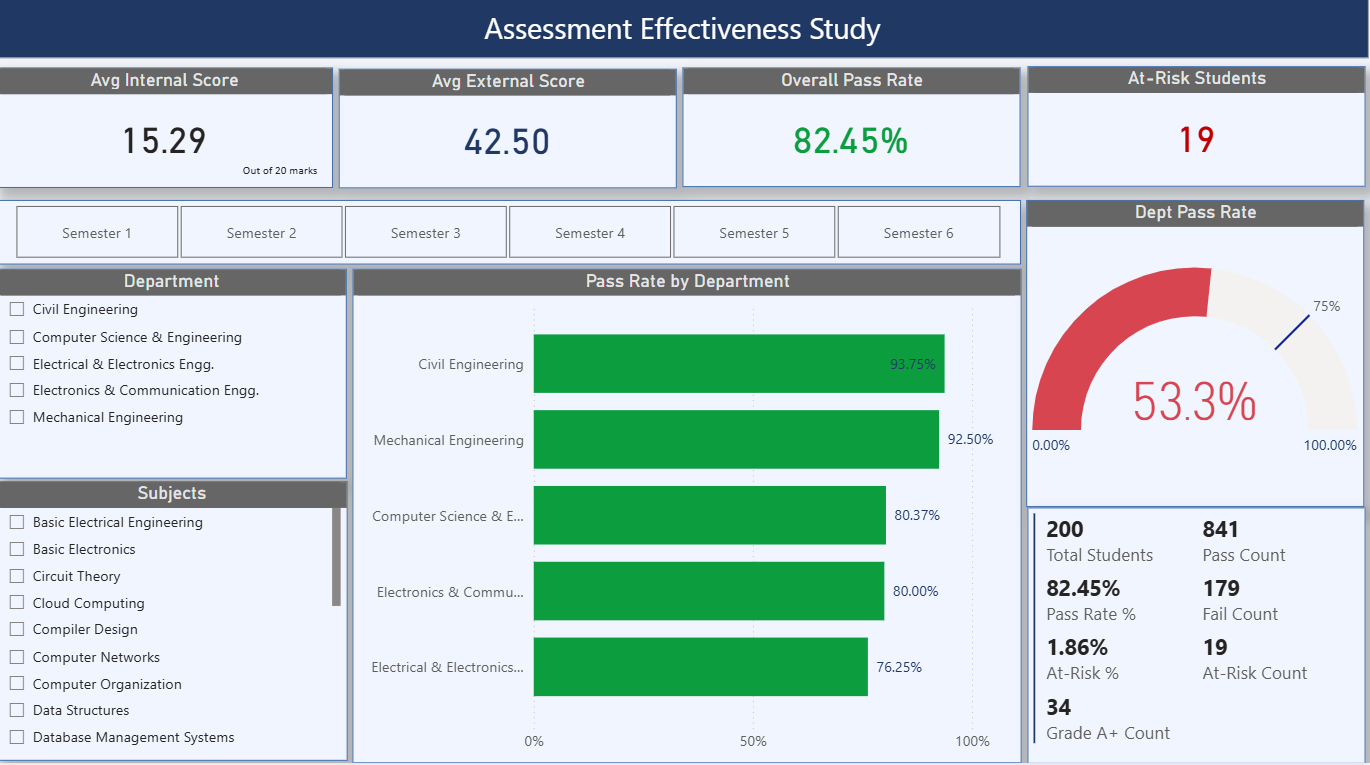

The dashboard page shown, as its layout file describes it:
{"tool":"powerbi","page":{"name":"Executive Summary","canvas":[1280,720],"ordinal":0},"visuals":[{"type":"textbox","box":[1.1,5.6,1276.7,57.8],"z":0},{"type":"card","title":"Avg Internal Score","fields":{"Values":["__Measures.Avg IA Score"]},"box":[0,71.9,314,112],"z":1000},{"type":"card","title":"Avg External Score","fields":{"Values":["__Measures.Avg EE Score"]},"box":[320,73.5,314,110.9],"z":2000},{"type":"card","title":"Overall Pass Rate","fields":{"Values":["__Measures.Pass Rate %"]},"box":[640,72.3,314,110.9],"z":3000},{"type":"card","title":"At-Risk Students","fields":{"Values":["__Measures.At-Risk Count"]},"box":[960,71.1,314,112.2],"z":4000},{"type":"slicer","fields":{"Values":["SemesterMaster.SemesterName"]},"box":[0,195.1,954.6,60.1],"z":5000},{"type":"slicer","title":"Department","fields":{"Values":["DepartmentDim.DepartmentName"]},"box":[0,258.9,327,195.1],"z":6000},{"type":"slicer","title":"Subjects","fields":{"Values":["SubjectMaster.SubjectName"]},"box":[0,457.4,327.6,260],"z":7000},{"type":"textbox","box":[225.8,152.1,88.3,31.9],"z":8000},{"type":"clusteredBarChart","title":"Pass Rate by Department","fields":{"Category":["DepartmentDim.DepartmentName"],"Y":["__Measures.Pass Rate %"]},"box":[332.5,258.9,622.1,460.1],"z":9000},{"type":"gauge","title":"Dept Pass Rate","fields":{"Y":["__Measures.IA-EE Correlation"]},"box":[959.5,195.1,314.1,285.9],"z":10000},{"type":"multiRowCard","fields":{"Values":["__Measures.Total Students","__Measures.Pass Count","__Measures.Pass Rate %","__Measures.Fail Count","__Measures.At-Risk %","__Measures.At-Risk Count","__Measures.Grade A+ Count"]},"box":[960,481,314,238],"z":11000}]}

Visuals, with their boxes in screenshot pixels (x1, y1, x2, y2), scaled from the page's 1280x720 canvas onto the 1370x765 screenshot:
textbox: select_region(1, 6, 1368, 67)
"Avg Internal Score" card: select_region(0, 76, 336, 195)
"Avg External Score" card: select_region(342, 78, 679, 196)
"Overall Pass Rate" card: select_region(685, 77, 1021, 195)
"At-Risk Students" card: select_region(1028, 76, 1364, 195)
slicer - SemesterMaster.SemesterName: select_region(0, 207, 1022, 271)
"Department" slicer: select_region(0, 275, 350, 482)
"Subjects" slicer: select_region(0, 486, 351, 762)
textbox: select_region(242, 162, 336, 196)
"Pass Rate by Department" clusteredBarChart: select_region(356, 275, 1022, 764)
"Dept Pass Rate" gauge: select_region(1027, 207, 1363, 511)
multiRowCard - __Measures.Total Students x __Measures.Pass Count: select_region(1028, 511, 1364, 764)
